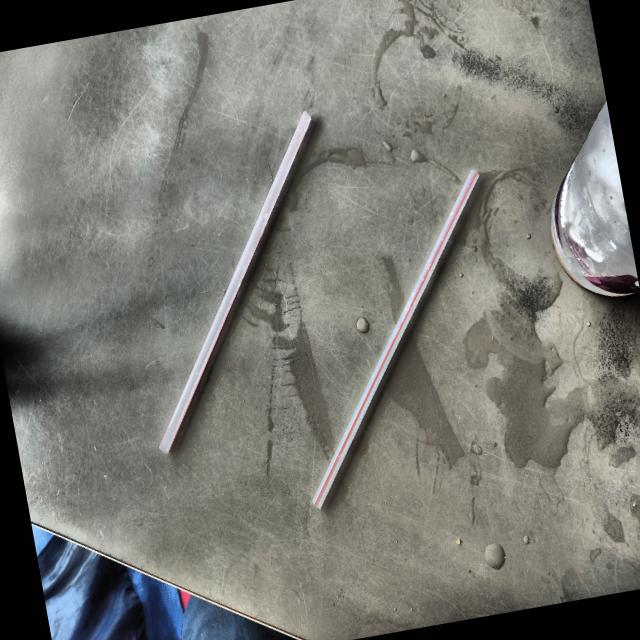plastic straw: (312, 169, 479, 508), (159, 111, 310, 452)
